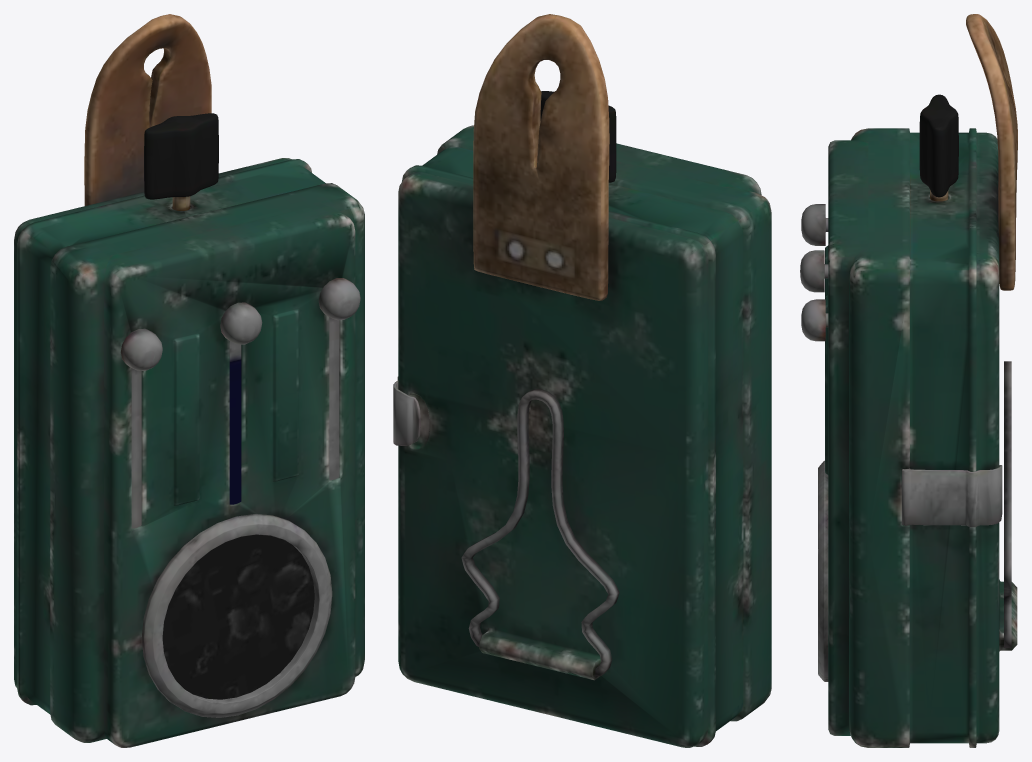
The model's file is flashlight.glb.
The picture shows the model from 3 angles, left to right: view 1: azimuth 30°, elevation 25°; view 2: azimuth 150°, elevation 25°; view 3: azimuth 270°, elevation 25°; orthographic projection. The views are drawn at different scales.
Visible parts, largest first — view 1: signal_flashlight_clip, signal_flashlight; view 2: signal_flashlight_clip; view 3: signal_flashlight_clip.
Boxes of the visible parts, left/top/right/bottom form: signal_flashlight_clip: left=14, top=14, right=364, bottom=747; signal_flashlight: left=162, top=358, right=314, bottom=699; signal_flashlight_clip: left=393, top=14, right=771, bottom=747; signal_flashlight_clip: left=800, top=14, right=1017, bottom=747.
Bounding box in the file's own units: 0.071 × 0.1499 × 0.0445.
2 materials, 2 textured.
